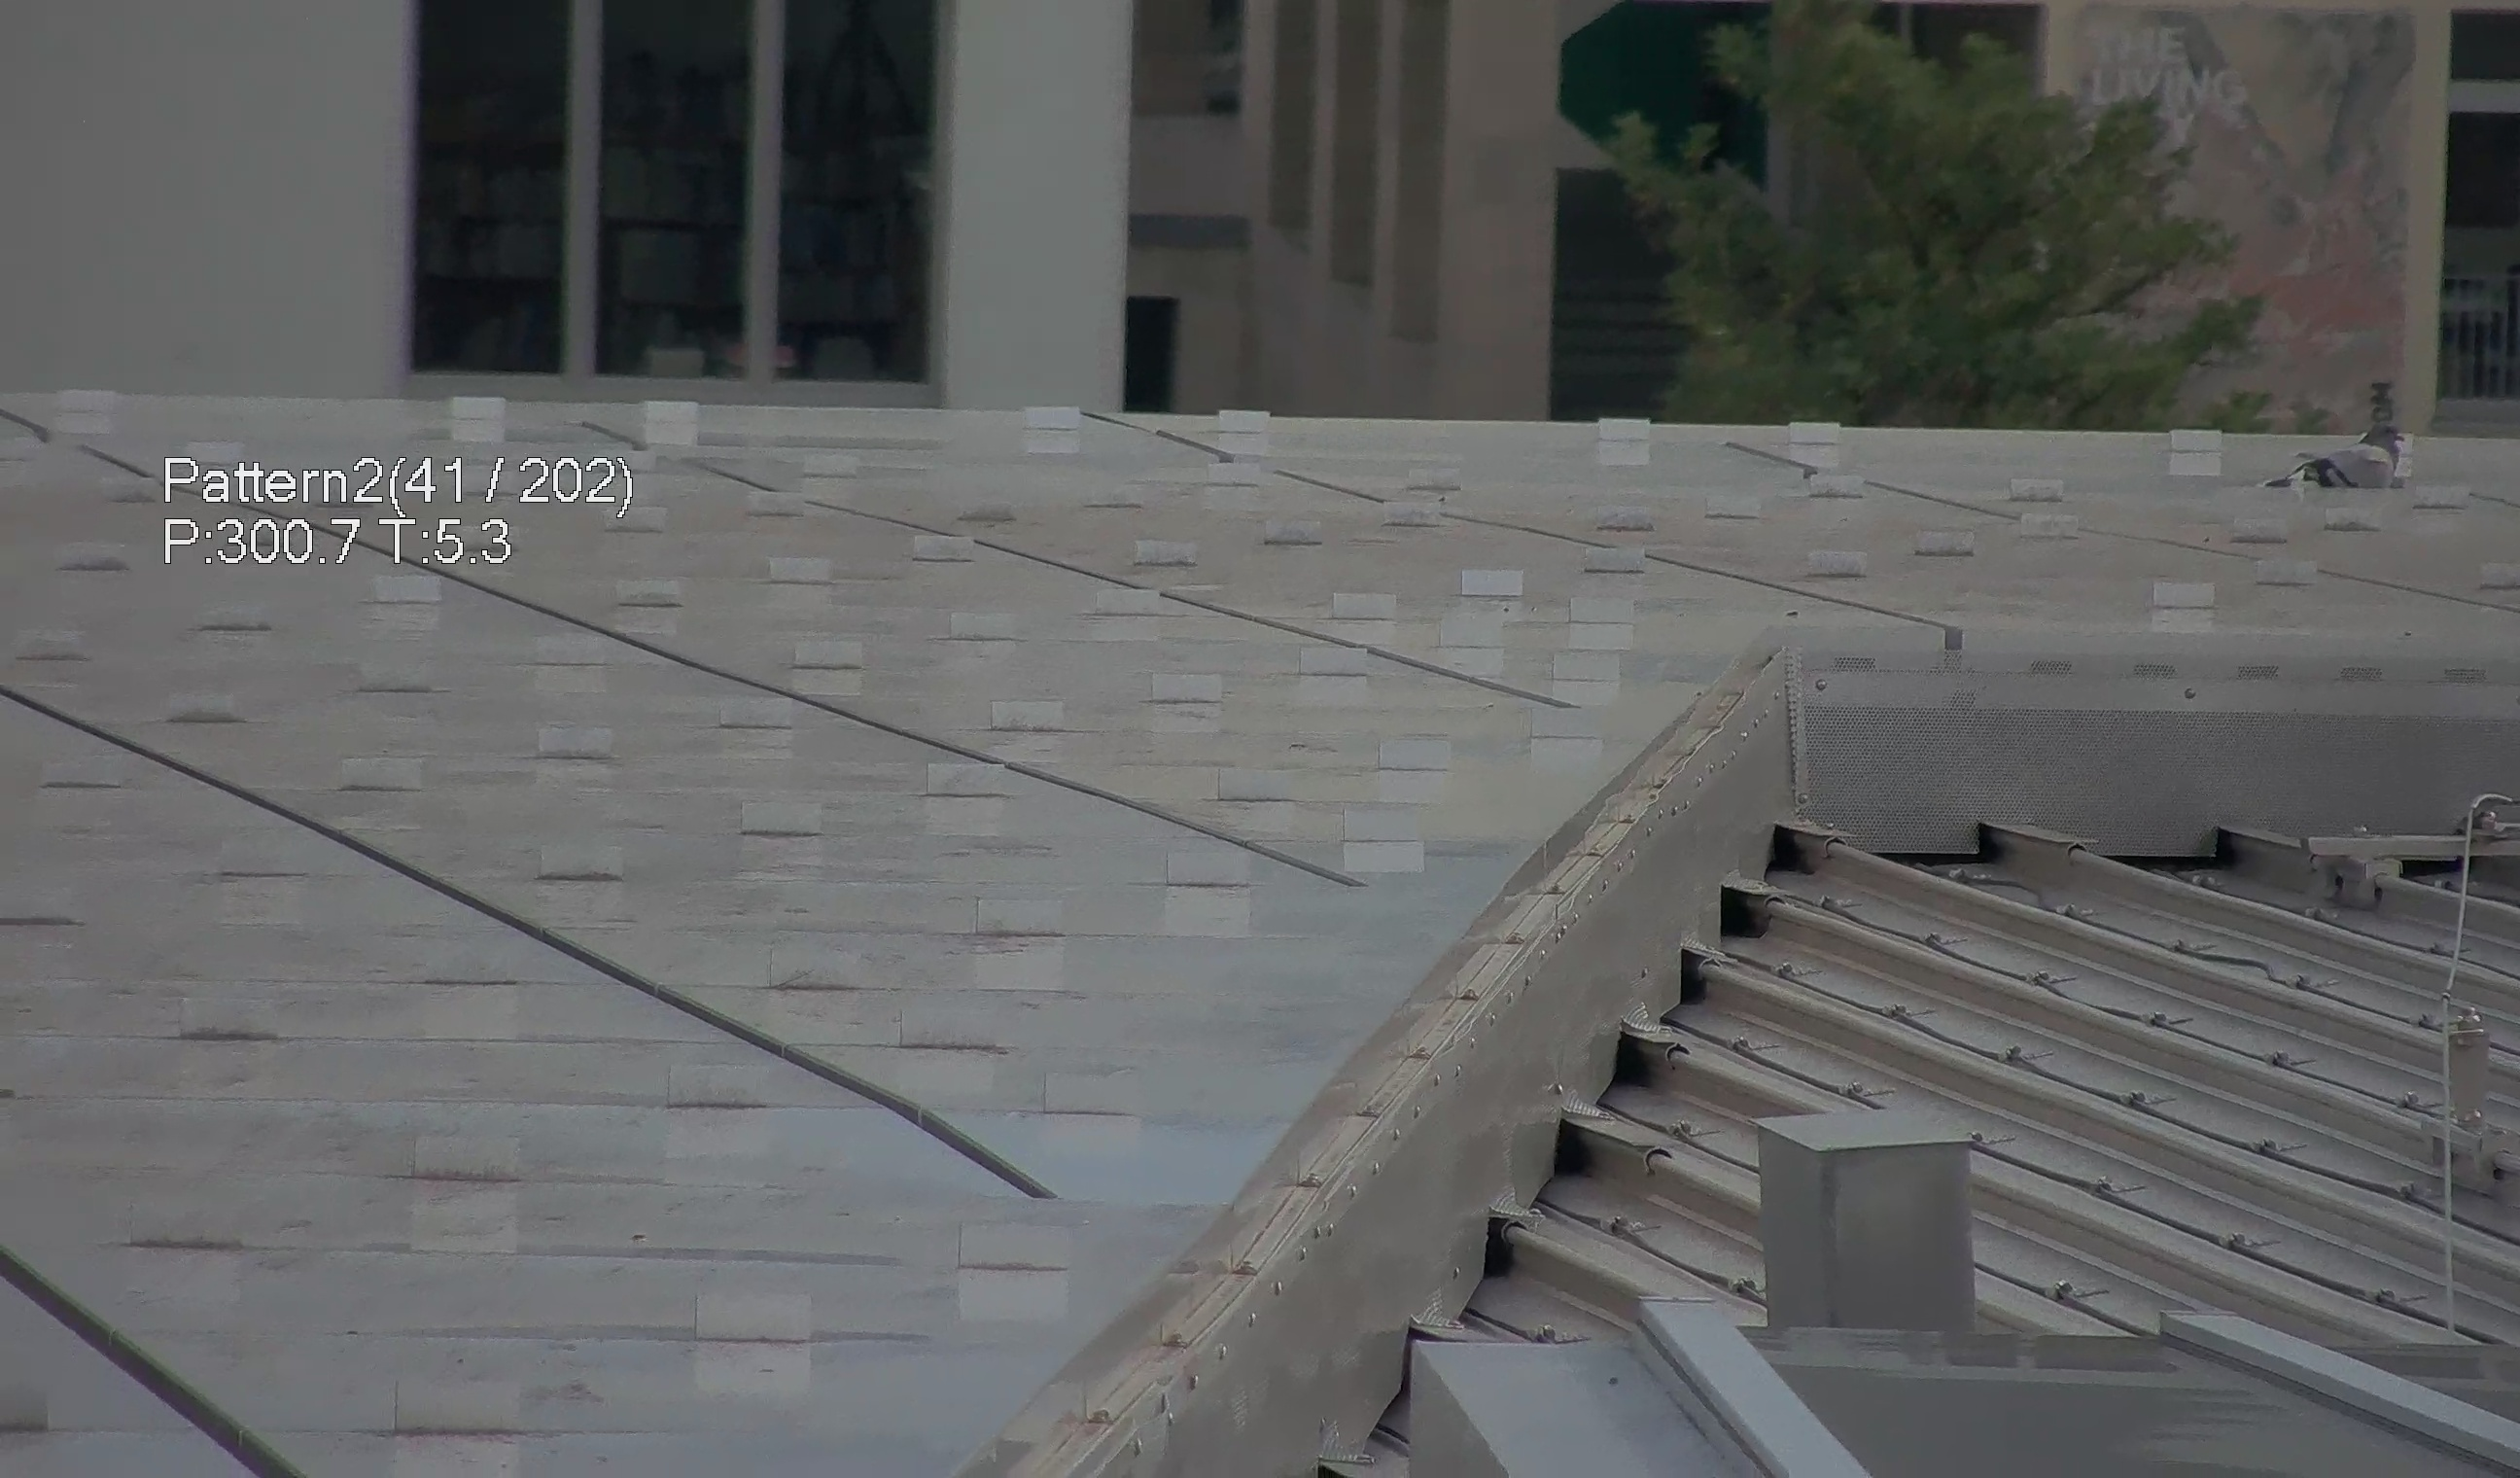Pigeon: (2272, 399, 2418, 500)
